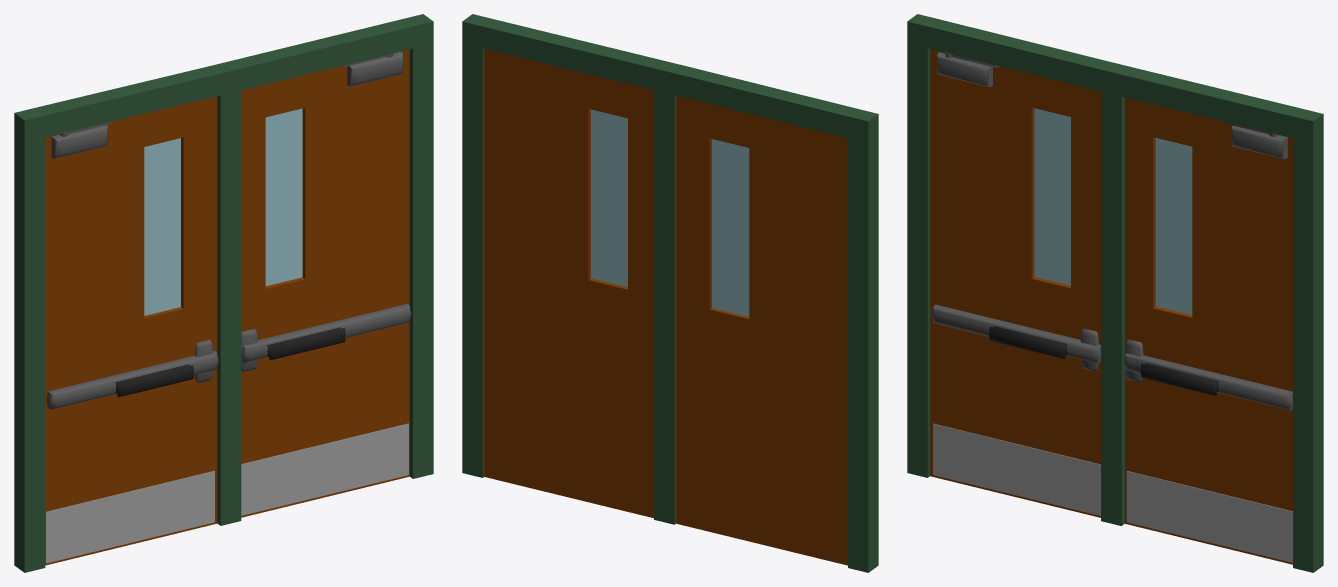
Rendered from Door.FBX.
3 views of the same model, side by side, from view 1: azimuth 30°, elevation 25°; view 2: azimuth 150°, elevation 25°; view 3: azimuth 330°, elevation 25° (orthographic).
Visible parts, largest first — view 1: DoorFrame; view 2: DoorFrame; view 3: DoorFrame.
Boxes of the visible parts, left/top/right/bottom form: DoorFrame: left=14, top=14, right=433, bottom=572; DoorFrame: left=462, top=14, right=878, bottom=572; DoorFrame: left=907, top=14, right=1323, bottom=572.
Size of the model in its own units: 392 by 416 by 28.74.
